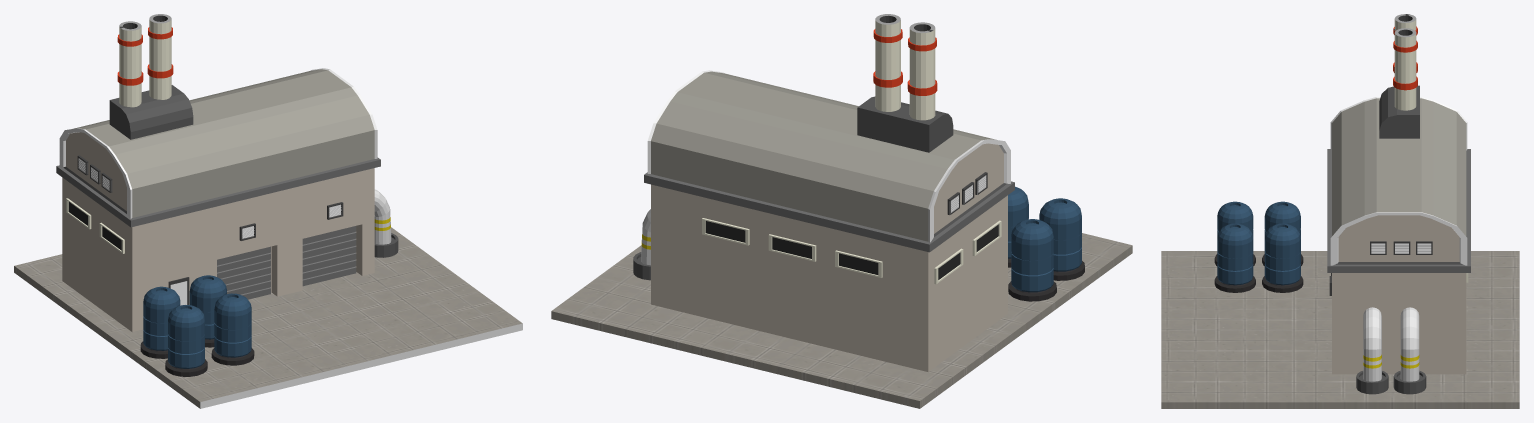
Rendered from Factory_02.fbx.
3 renders of one model, left to right at view 1: azimuth 30°, elevation 25°; view 2: azimuth 150°, elevation 25°; view 3: azimuth 270°, elevation 25°, orthographic. The views are drawn at different scales.
Parts seen in each view (by area): view 1: Factory_02; view 2: Factory_02; view 3: Factory_02.
Boxes of the visible parts, x1,y1,x2,y2 form: Factory_02: (14,14,522,408); Factory_02: (551,14,1132,408); Factory_02: (1161,14,1519,408).
Bounding box in the file's own units: 3017 × 2468 × 3017.
